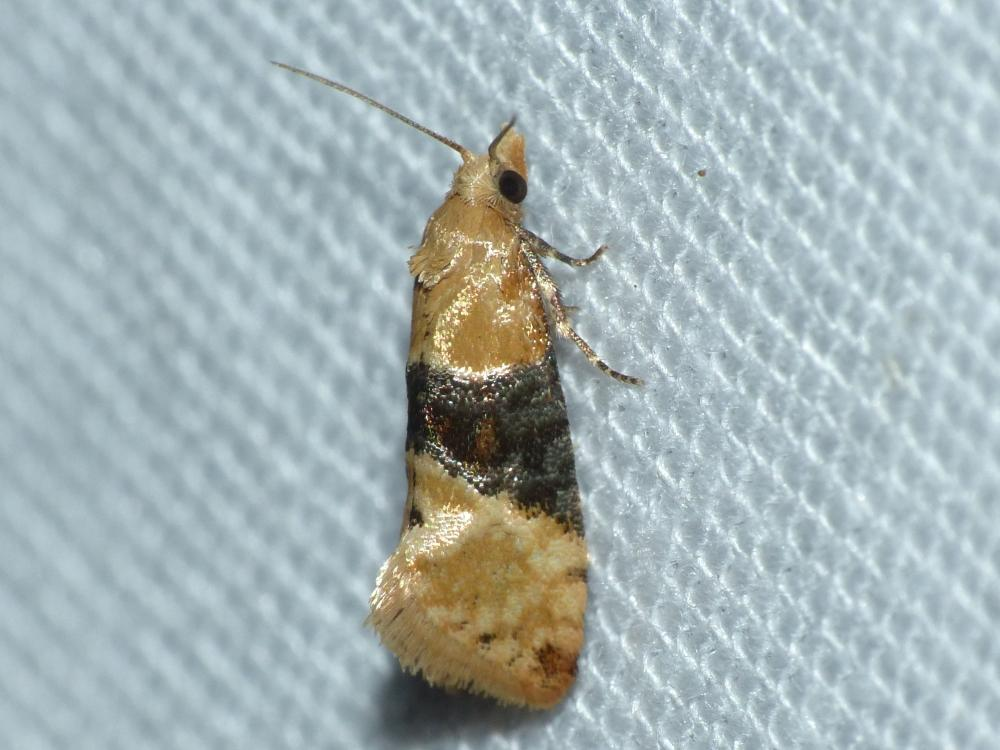Eupoecilia Ambiguella: (266, 57, 647, 712)
